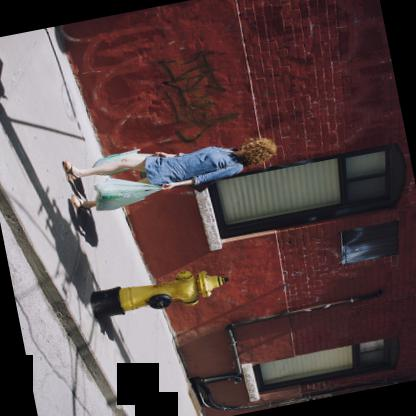handbag: (188, 178, 221, 192)
